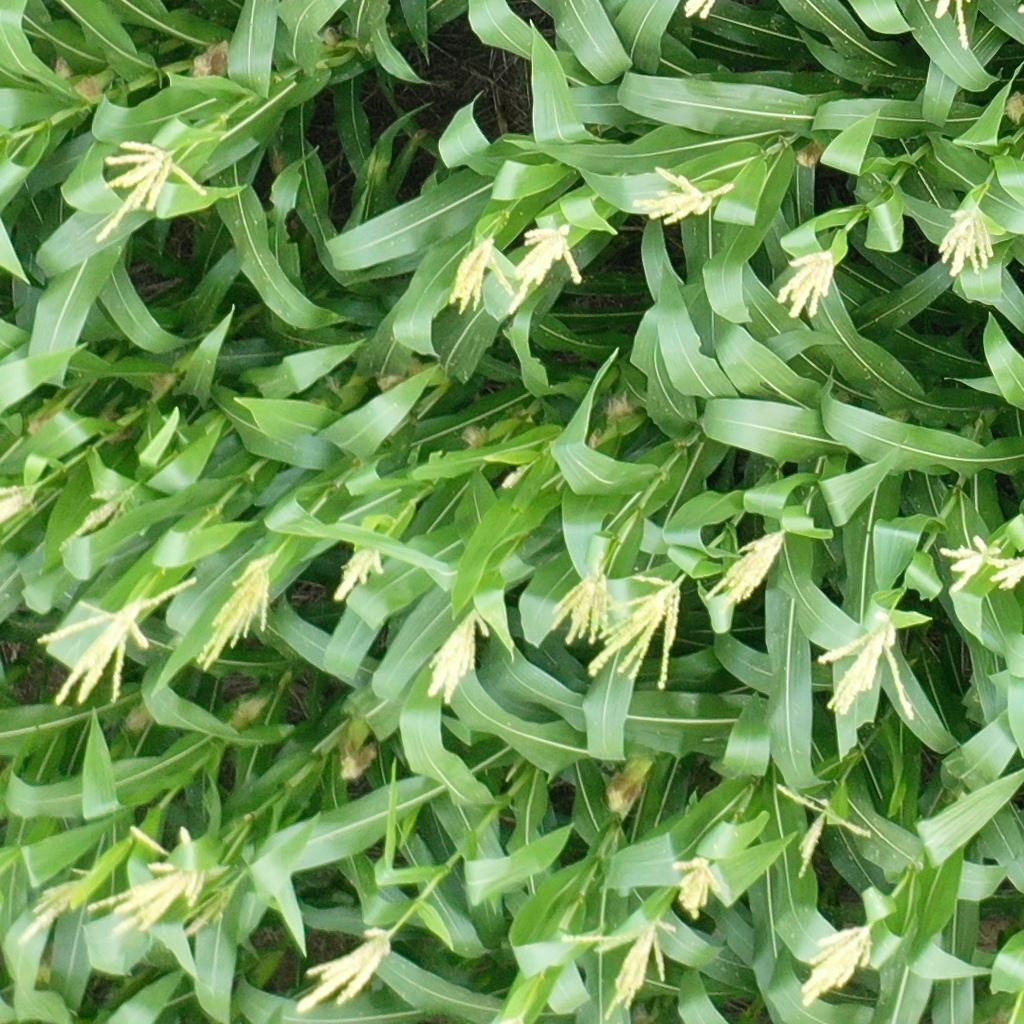Tassel: (34, 576, 198, 709), (87, 818, 206, 943), (561, 911, 677, 1021), (96, 139, 208, 246), (816, 609, 915, 721), (590, 574, 683, 692), (193, 555, 281, 675), (776, 778, 872, 884), (294, 923, 394, 1017), (799, 917, 876, 1010), (507, 224, 583, 318), (424, 608, 492, 707), (632, 164, 736, 227), (704, 529, 788, 607), (549, 546, 610, 646), (17, 867, 93, 946), (57, 484, 141, 554), (446, 237, 518, 315), (938, 202, 996, 279), (775, 249, 835, 320), (939, 532, 1002, 596), (179, 883, 239, 940), (671, 855, 721, 922), (331, 544, 384, 602), (931, 1, 975, 52), (1, 480, 39, 526), (986, 555, 1024, 591), (501, 461, 534, 494), (683, 1, 717, 18)
